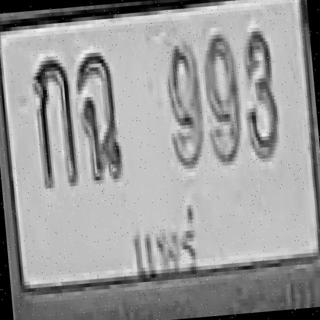A01: (30, 55, 78, 188)
A09: (74, 49, 124, 183)
N03: (239, 26, 282, 159)
N09: (200, 30, 245, 166), (163, 40, 207, 170)
P47: (128, 206, 205, 286)
